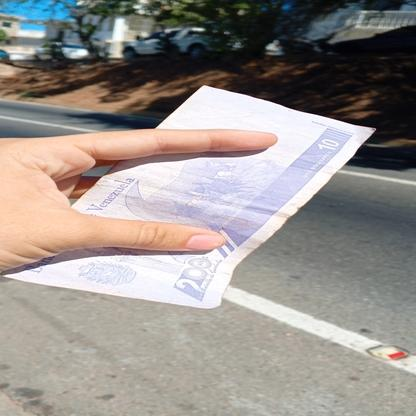vef_back: (0, 86, 376, 308)
